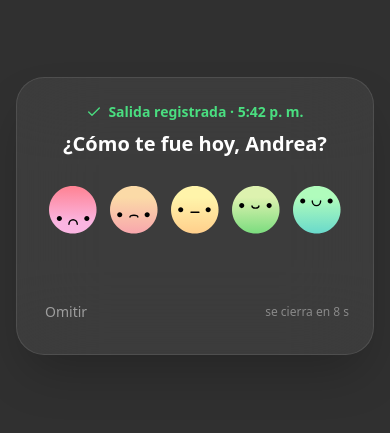
Test case: la carita › si no se pudo guardar, lo dice
Click the radio button named "Bien".
click(256, 210)  # box [228,182,284,238]
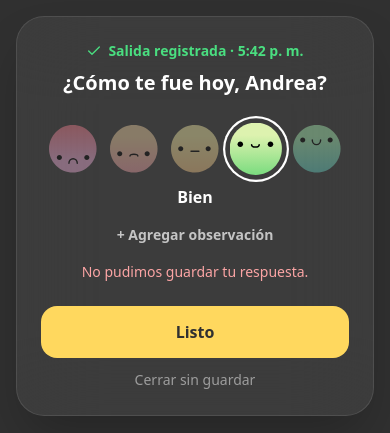
Check: the text "No pudimos guardar tu respuesta." is shown, box [82,262,308,281]
